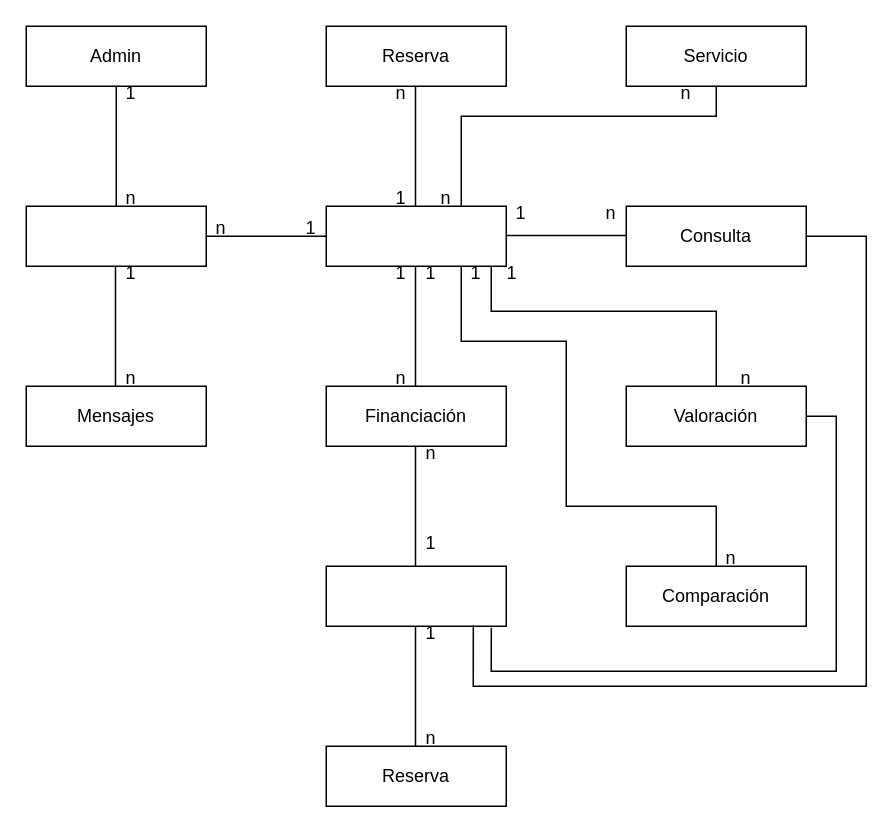
This 894x833 diagram has some shape labels left out. Each missing label, with the centre of its shape:
"Chat" belongs at point (115, 235).
"Cliente" belongs at point (415, 235).
"Coche" belongs at point (415, 595).
